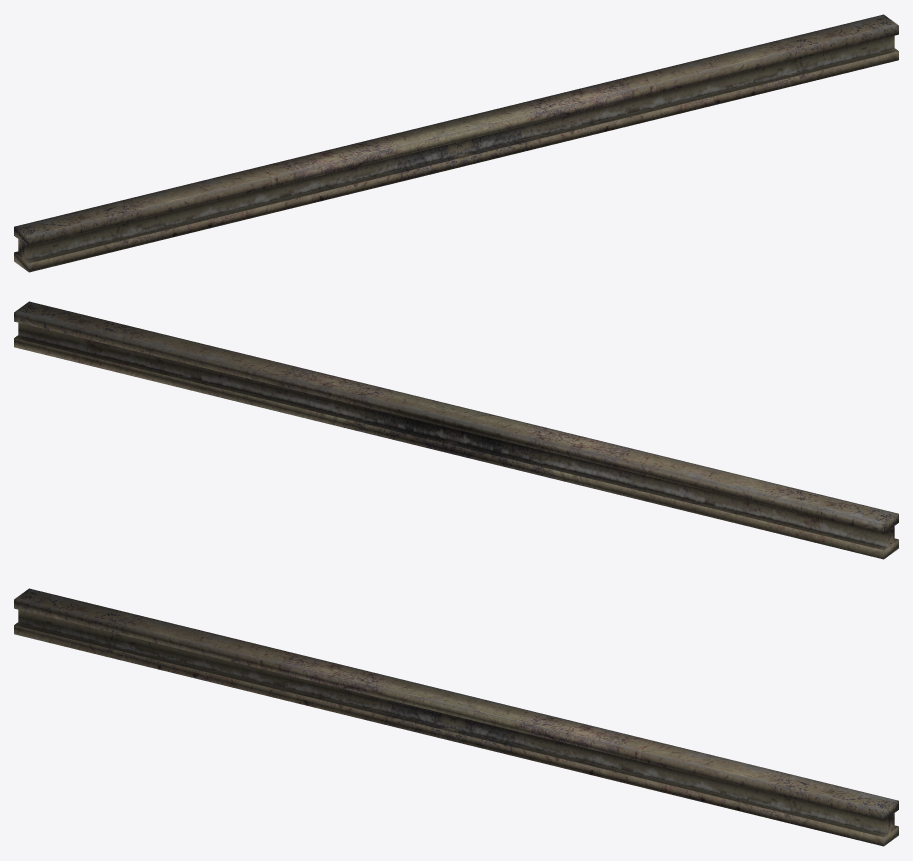
The model's file is rod (1).fbx.
3 renders of one model, top to bottom at view 1: azimuth 30°, elevation 25°; view 2: azimuth 150°, elevation 25°; view 3: azimuth 330°, elevation 25°, orthographic.
Parts seen in each view (by area): view 1: rod; view 2: rod; view 3: rod.
Boxes of the visible parts, <box> form: rod: <box>14,14,898,272</box>; rod: <box>14,301,898,559</box>; rod: <box>14,588,898,846</box>.
Bounding box in the file's own units: 209 × 7.95 × 6.28.
Materials: 1 (1 with a texture image).
